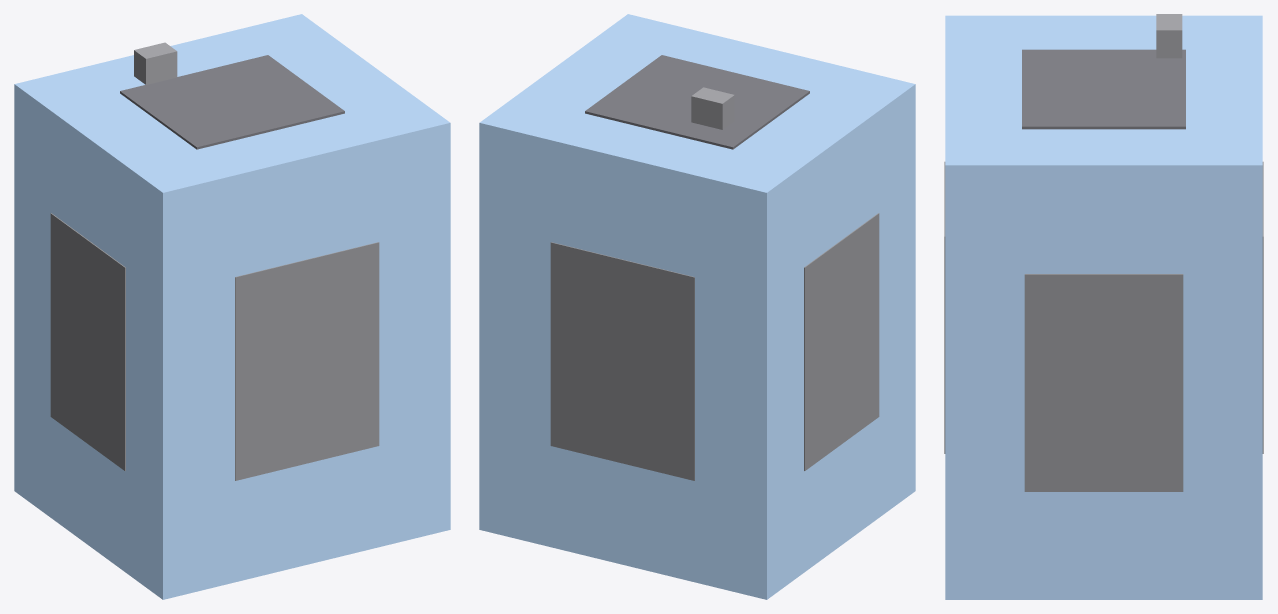
Rendered from office_2.glb.
3 renders of one model, left to right at view 1: azimuth 30°, elevation 25°; view 2: azimuth 150°, elevation 25°; view 3: azimuth 270°, elevation 25°, orthographic. The views are drawn at different scales.
Visible parts, largest first — view 1: office_2_body, office_2_col.002, office_2_col, office_2_roof, office_2_mech; view 2: office_2_body, office_2_col.003, office_2_col, office_2_roof, office_2_mech; view 3: office_2_body, office_2_col.001, office_2_roof, office_2_mech, office_2_col.002, office_2_col.003.
Part boxes in pixels (left/top/right/bottom): office_2_body: left=14, top=14, right=450, bottom=599; office_2_col.002: left=235, top=242, right=379, bottom=480; office_2_col: left=50, top=213, right=125, bottom=470; office_2_roof: left=120, top=55, right=344, bottom=149; office_2_mech: left=134, top=42, right=177, bottom=84; office_2_body: left=479, top=14, right=915, bottom=599; office_2_col.003: left=550, top=242, right=694, bottom=480; office_2_col: left=804, top=213, right=879, bottom=470; office_2_roof: left=585, top=55, right=809, bottom=149; office_2_mech: left=691, top=87, right=734, bottom=129; office_2_body: left=945, top=15, right=1262, bottom=599; office_2_col.001: left=1024, top=274, right=1183, bottom=491; office_2_roof: left=1022, top=49, right=1185, bottom=129; office_2_mech: left=1156, top=14, right=1182, bottom=58; office_2_col.002: left=944, top=161, right=945, bottom=453; office_2_col.003: left=1262, top=161, right=1263, bottom=453.
Bounding box in the file's own units: 13.02 × 19.32 × 11.66.
